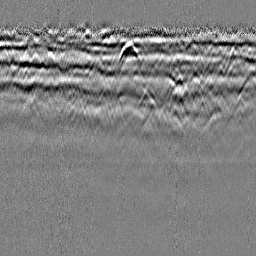cavity: (118, 41, 140, 61)
